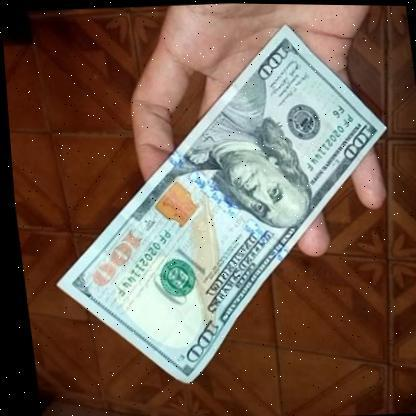one_hundred-front: (22, 13, 416, 399)
